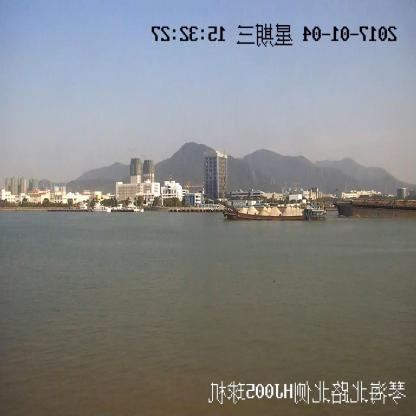Bulk Carrier: (334, 193, 416, 219)
